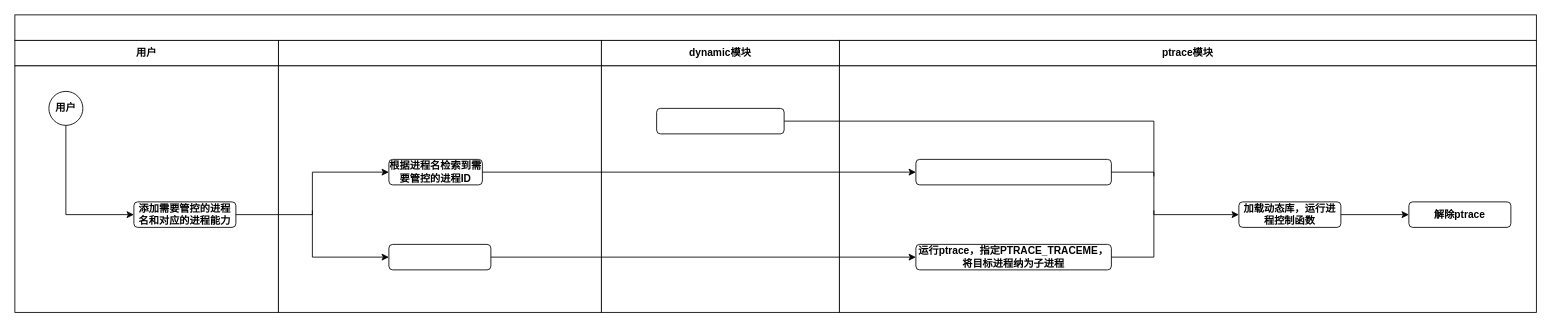
Some shapes in this 1551 by 327 pixel diagram are drawn without their labels. The centre of each missing label's shape, as x and y in pixels:
netlink模块: pixel 439 53
动态进程能力控制: pixel 775 27
根据进程名监听需要控制的进程的创建: pixel 439 257
编译动态库，提供进程能力控制的各种实现: pixel 720 121
运行ptrace，指定PTRACE_ATTACH，将目标进程纳为子进程: pixel 1013 172
